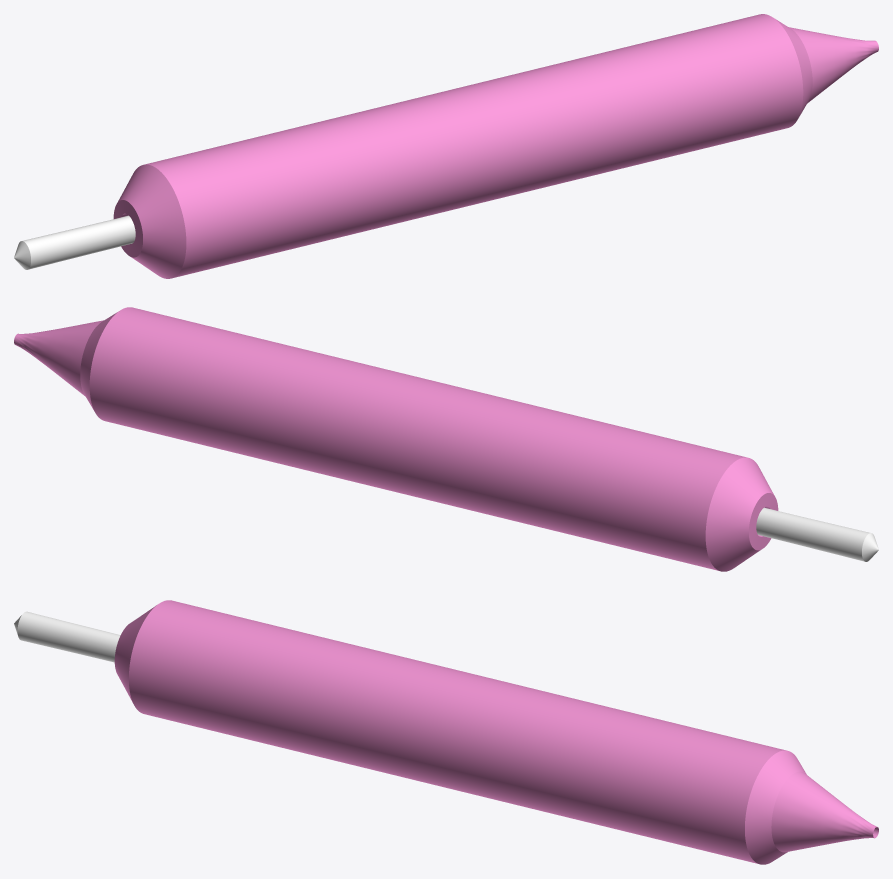
The model's file is Tool2.FBX.
The picture shows the model from 3 angles, top to bottom: view 1: azimuth 30°, elevation 25°; view 2: azimuth 150°, elevation 25°; view 3: azimuth 330°, elevation 25°; orthographic projection.
Visible parts, largest first — view 1: Line01, Line03; view 2: Line01, Line03; view 3: Line01, Line03.
Part boxes in pixels (x1,y1,x2,y2): Line01: (113, 14, 878, 278); Line03: (14, 215, 135, 269); Line01: (14, 307, 778, 571); Line03: (756, 507, 878, 561); Line01: (114, 600, 878, 864); Line03: (14, 611, 120, 662).
Bounding box in the file's own units: 284 × 33.44 × 33.44.
